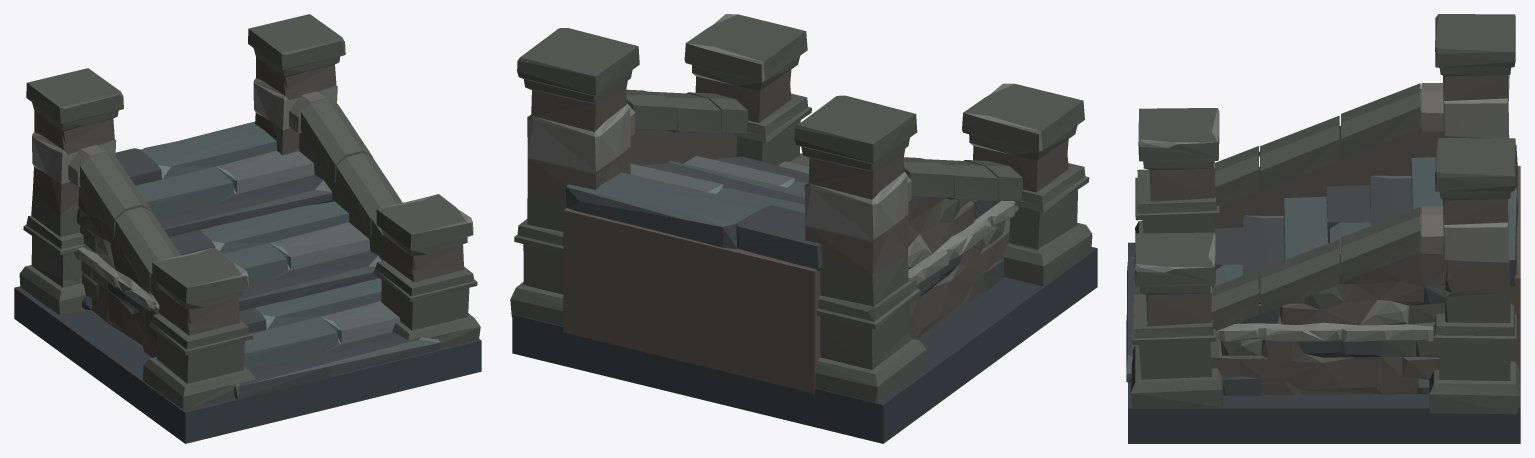
File: MDungeons_StepsReg.FBX
3 views of the same model, side by side, from view 1: azimuth 30°, elevation 25°; view 2: azimuth 150°, elevation 25°; view 3: azimuth 270°, elevation 25° (orthographic). The views are drawn at different scales.
Parts seen in each view (by area): view 1: MDungeons_StepsReg_LOD0; view 2: MDungeons_StepsReg_LOD0; view 3: MDungeons_StepsReg_LOD0.
Boxes of the visible parts, x1=… form: MDungeons_StepsReg_LOD0: x1=14, y1=14, x2=481, y2=443; MDungeons_StepsReg_LOD0: x1=510, y1=14, x2=1097, y2=443; MDungeons_StepsReg_LOD0: x1=1126, y1=14, x2=1520, y2=443.
Size of what is drawn, in the model's own units: 6.03 by 4.53 by 6.
